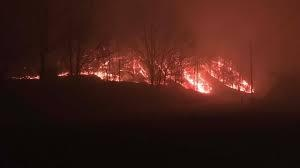fire: (181, 59, 258, 96)
